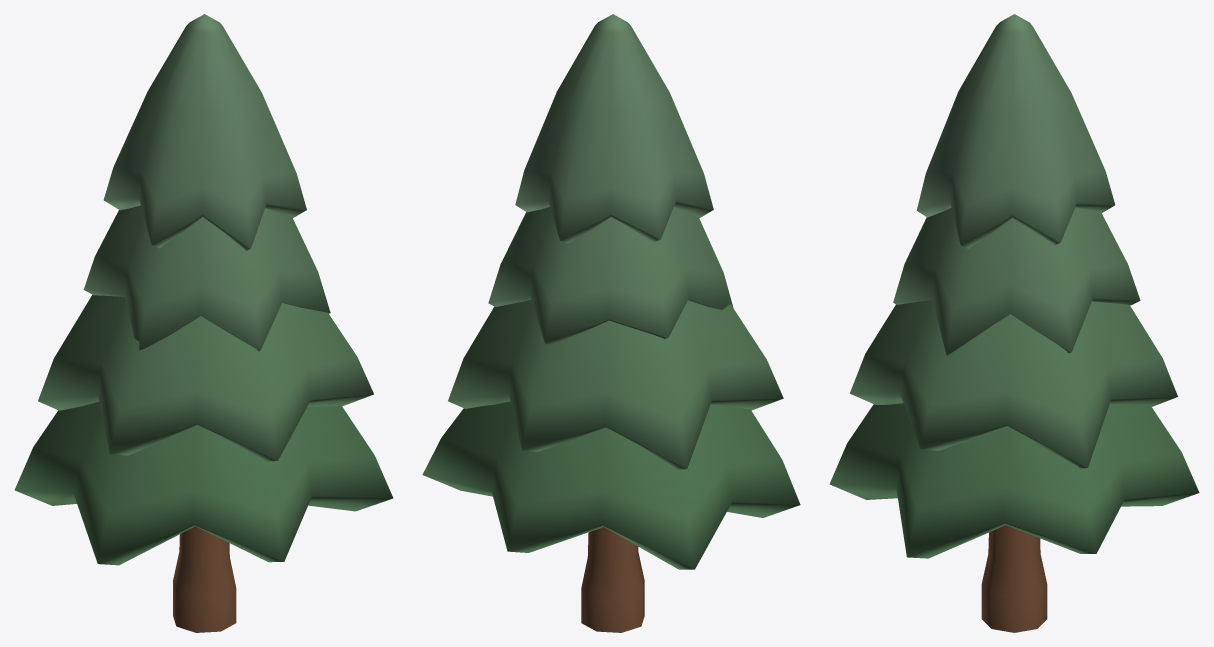
The model's file is pine3.glb.
The picture shows the model from 3 angles, left to right: view 1: azimuth 30°, elevation 25°; view 2: azimuth 150°, elevation 25°; view 3: azimuth 270°, elevation 25°; orthographic projection.
Parts seen in each view (by area): view 1: body; view 2: body; view 3: body.
Part boxes in pixels (x1,y1,x2,y2): body: [14, 14, 393, 632]; body: [422, 14, 800, 632]; body: [829, 14, 1199, 632].
Size of the model in its own units: 2.62 by 5.11 by 2.83.
